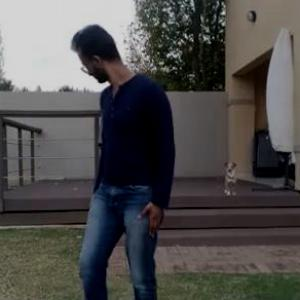follow: (61, 7, 167, 273)
